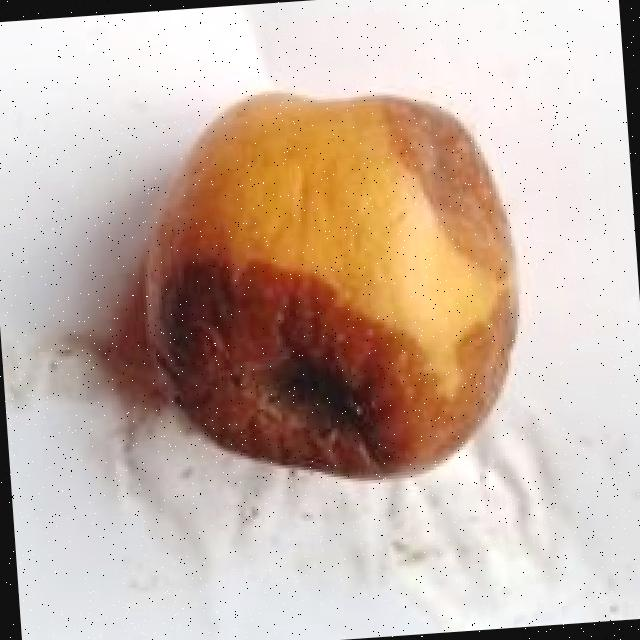rotten apple: (31, 29, 600, 624)
